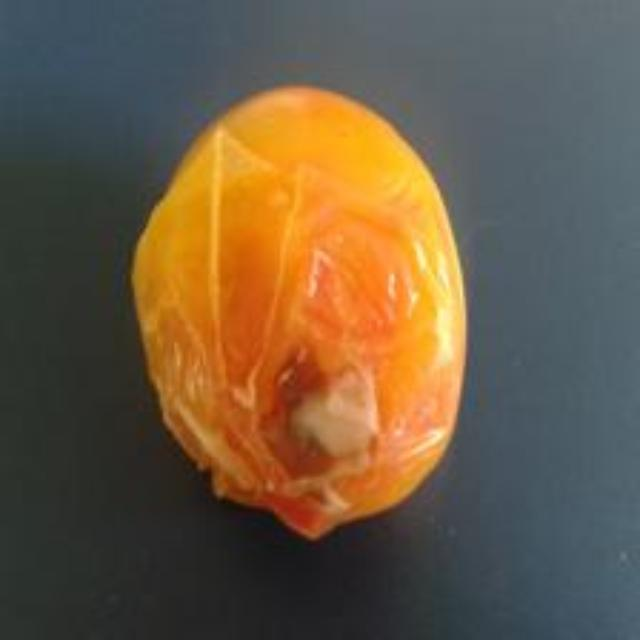defect: (116, 68, 485, 550)
